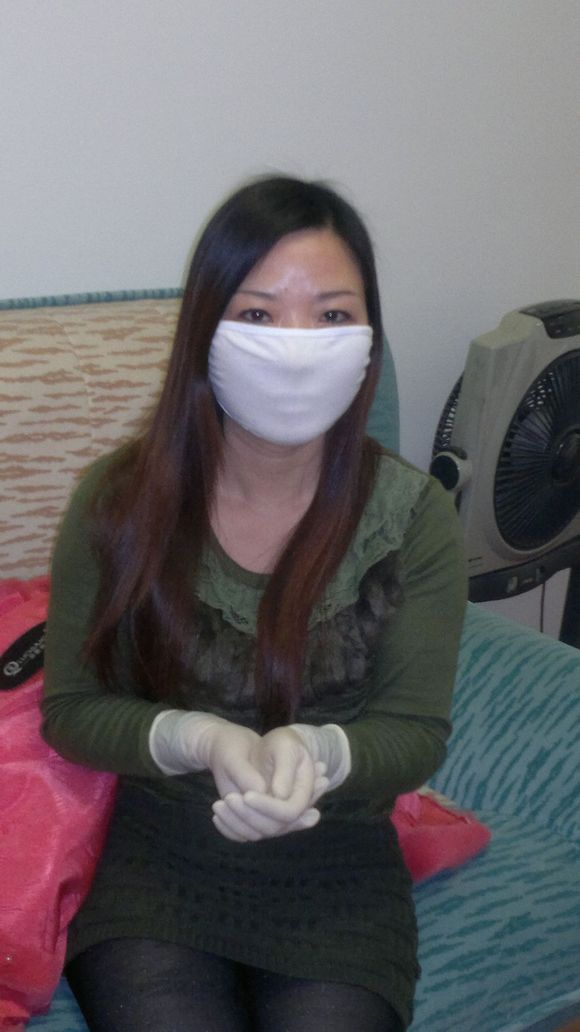face_mask: (215, 239, 364, 438)
